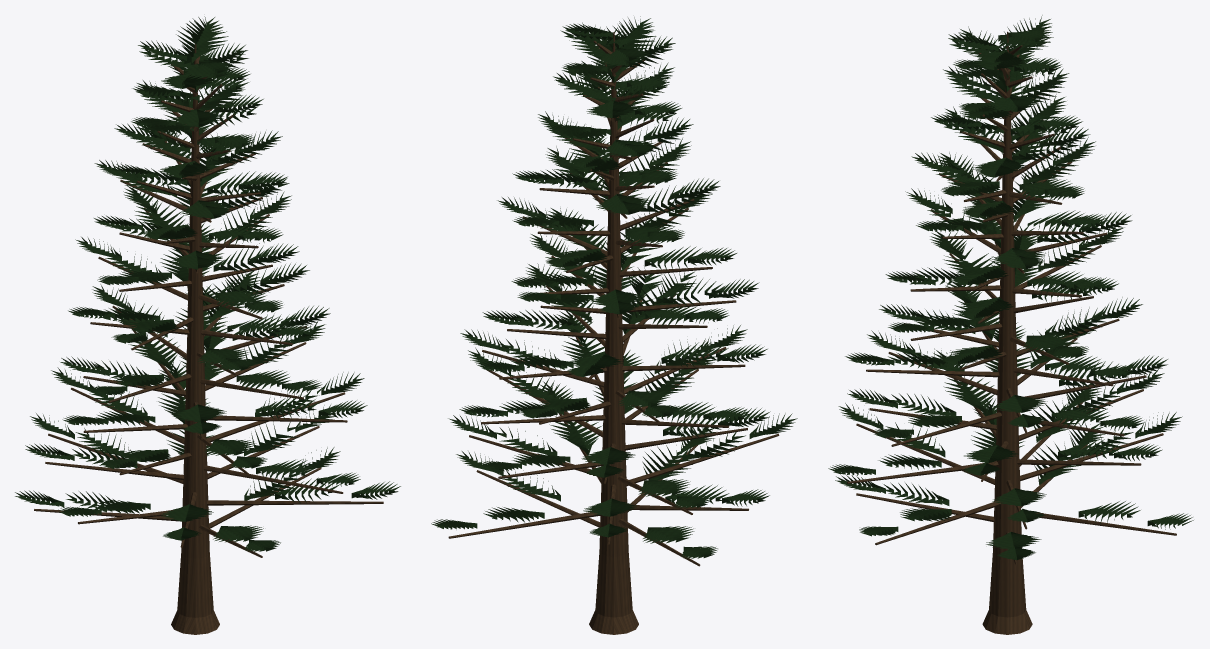
The model's file is level_camp_pine_refined_b.glb.
3 views of the same model, side by side, from view 1: azimuth 30°, elevation 25°; view 2: azimuth 150°, elevation 25°; view 3: azimuth 270°, elevation 25° (orthographic). The views are drawn at different scales.
Visible parts, largest first — view 1: level_camp_pine_refined_b; view 2: level_camp_pine_refined_b; view 3: level_camp_pine_refined_b.
Boxes of the visible parts, x1=… form: level_camp_pine_refined_b: x1=15, y1=16, x2=400, y2=634; level_camp_pine_refined_b: x1=431, y1=16, x2=797, y2=634; level_camp_pine_refined_b: x1=828, y1=15, x2=1193, y2=634.
Size of the model in its own units: 4.33 by 8.18 by 4.53.
2 materials, 2 textured.
